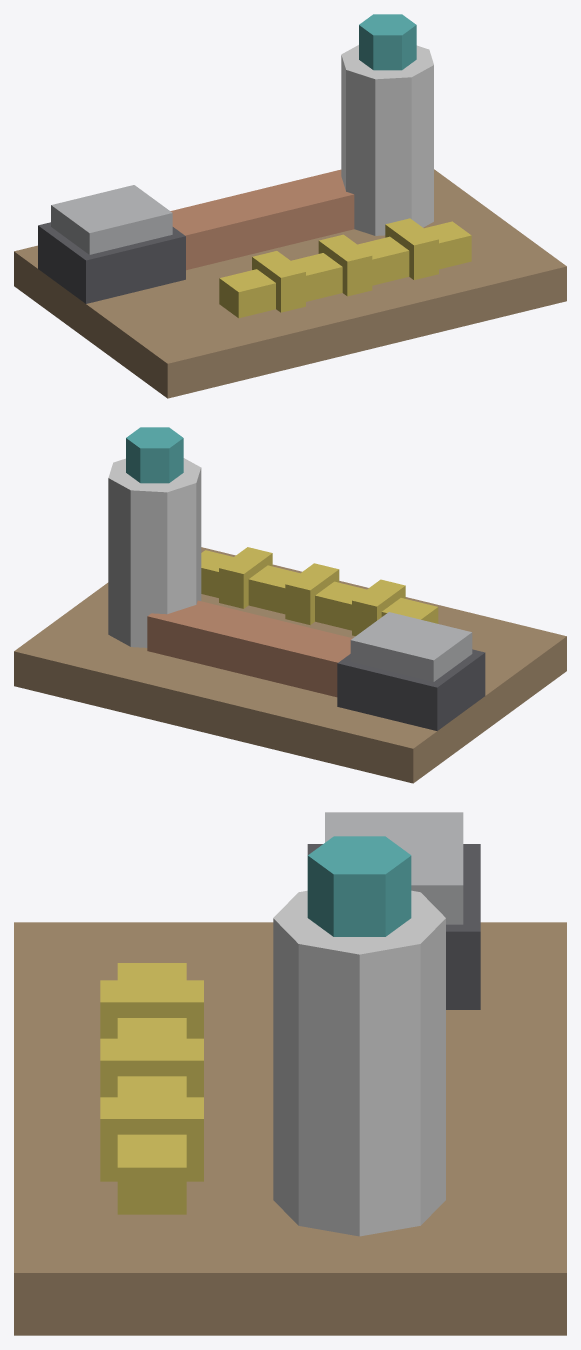
The model's file is pets_escova.glb.
The picture shows the model from 3 angles, top to bottom: view 1: azimuth 30°, elevation 25°; view 2: azimuth 150°, elevation 25°; view 3: azimuth 270°, elevation 25°; orthographic projection. The views are drawn at different scales.
Visible parts, largest first — view 1: PETS_ESCOVA_v01; view 2: PETS_ESCOVA_v01; view 3: PETS_ESCOVA_v01.
Boxes of the visible parts, box(x1,y1,x2,y2) form: PETS_ESCOVA_v01: box(14, 14, 566, 398); PETS_ESCOVA_v01: box(14, 427, 566, 783); PETS_ESCOVA_v01: box(14, 812, 566, 1335).
Size of the model in its own units: 0.24 by 0.13 by 0.16.
